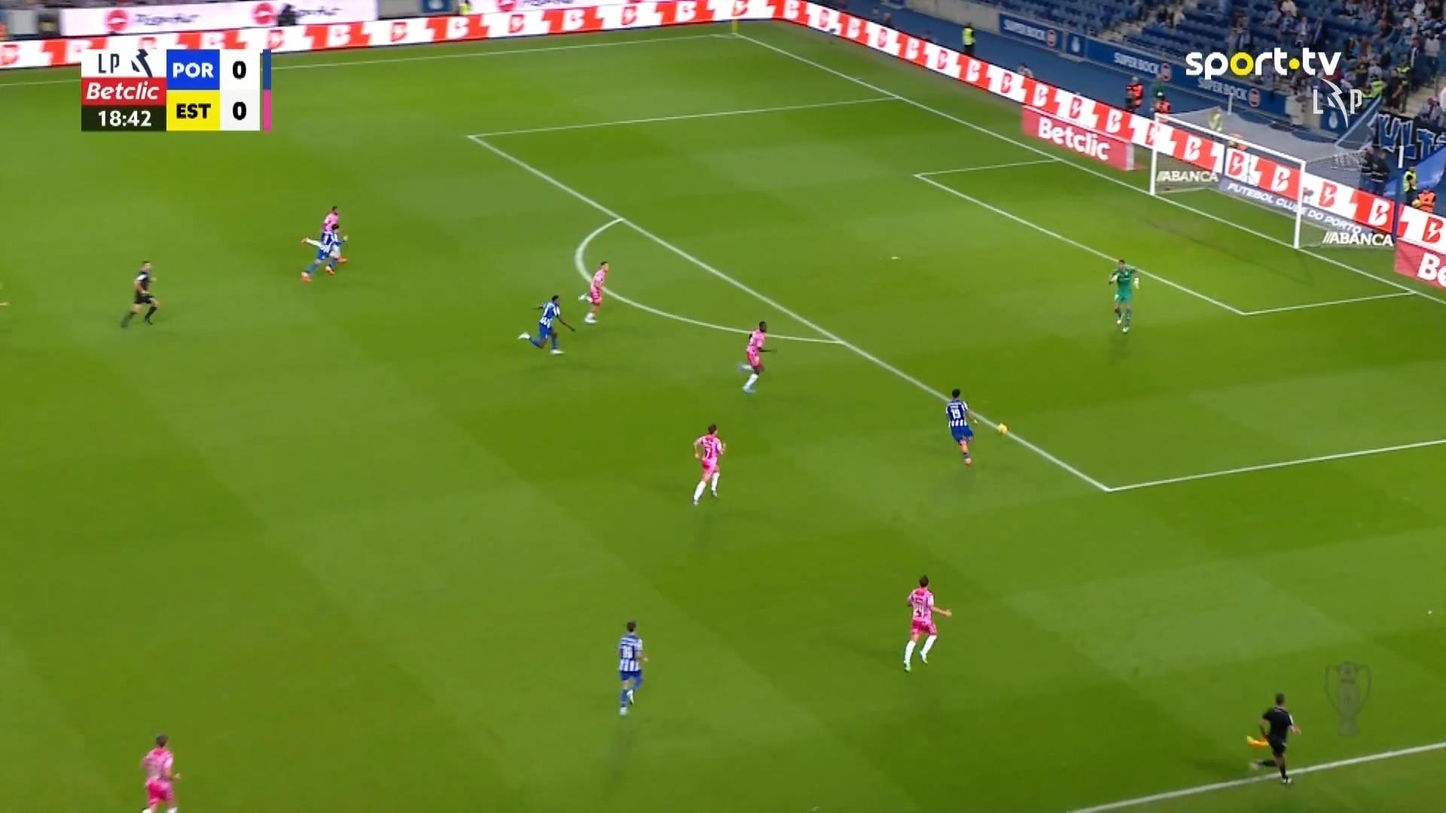ball: (997, 422, 1007, 434)
goalkeeper: (1107, 257, 1139, 333)
player: (901, 574, 952, 672), (299, 204, 348, 282), (518, 294, 575, 355), (139, 732, 182, 811), (615, 619, 647, 716), (691, 422, 725, 505), (944, 387, 977, 466), (740, 319, 773, 393), (578, 260, 609, 323), (299, 235, 339, 282), (318, 204, 346, 266)
referee: (1247, 691, 1300, 784), (119, 260, 160, 328)
